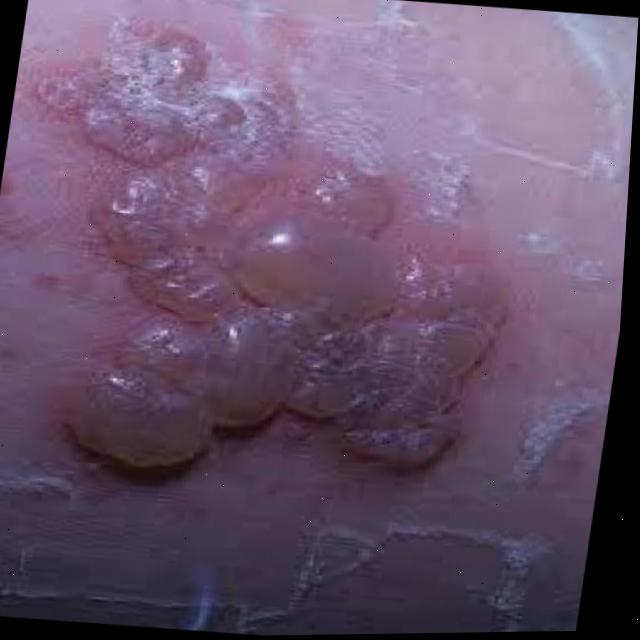Shingles: (26, 15, 532, 501)
